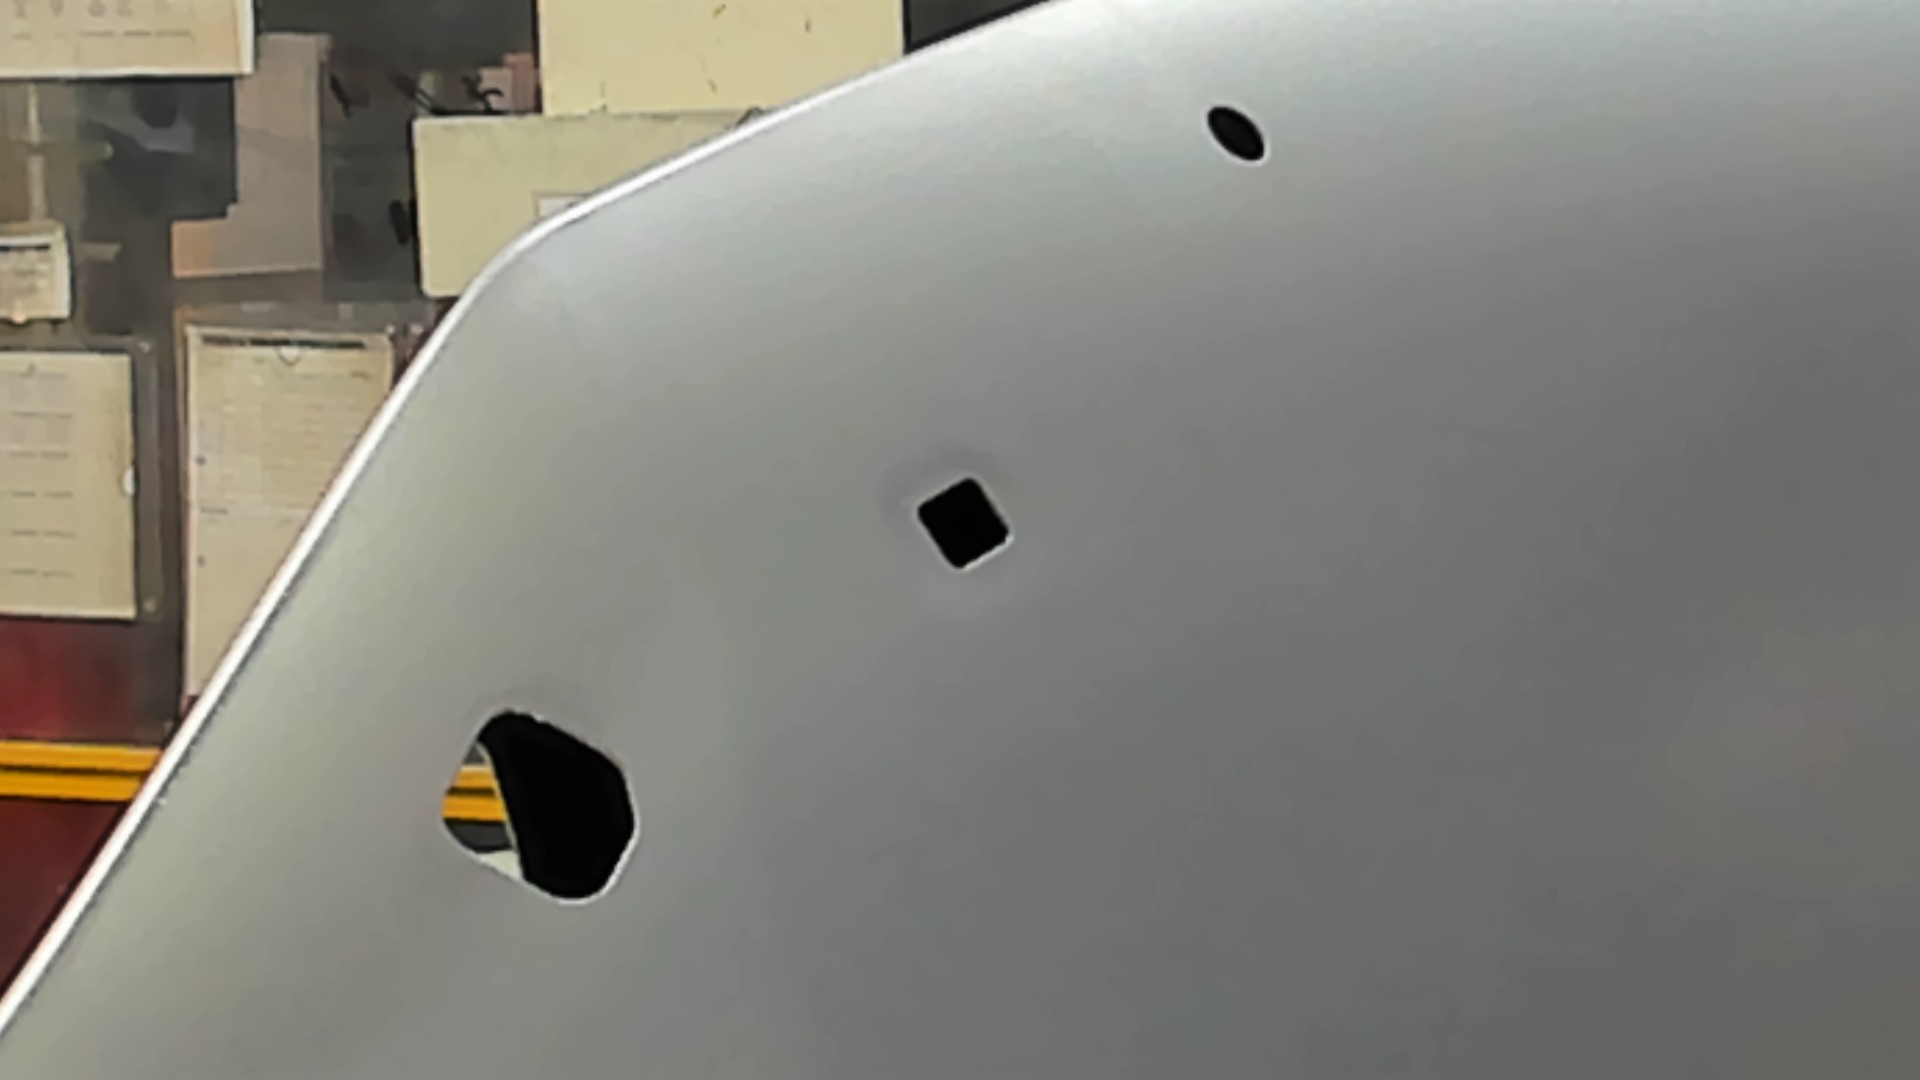chico: (1205, 102, 1269, 165)
grande: (439, 705, 642, 906)
mediano: (914, 473, 1014, 574)
